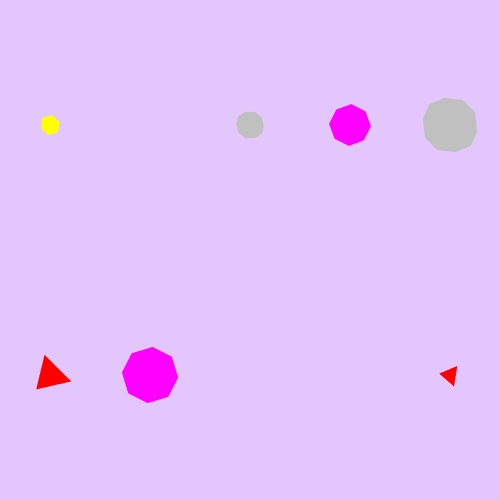decagon: (418, 95, 483, 155), (232, 108, 269, 143)
hexagon: (35, 112, 65, 138)
octagon: (118, 343, 182, 407), (326, 101, 375, 150)
triangle: (30, 354, 70, 396), (437, 362, 463, 389)
